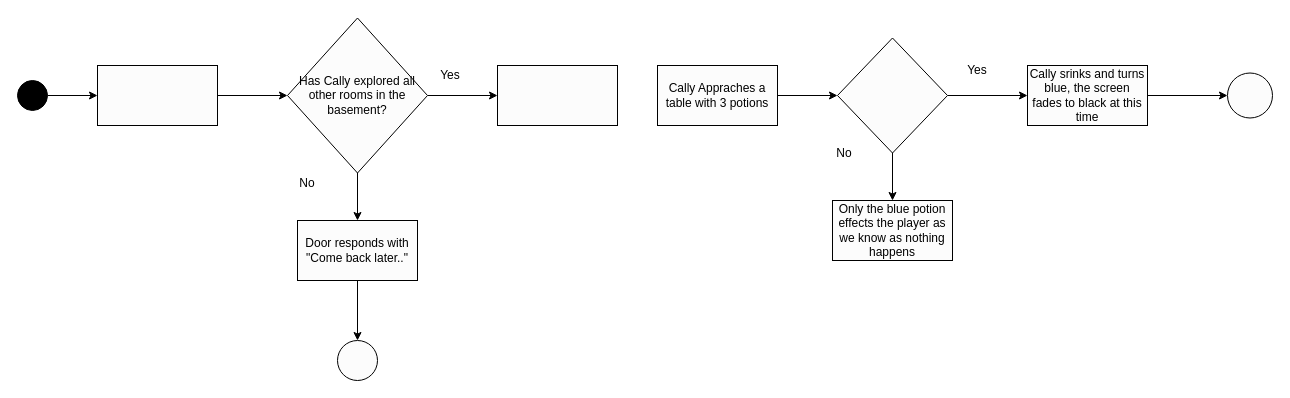
Image size: 1290x398. Some labels were removed from this diagram. The box of each missing label's shape, as (x1, y1, x2, y2) in pixels:
Cally Approach Doors: (96, 64, 218, 126)
Does cally pickup the blue potion?: (836, 37, 948, 153)
Doors open and Cally can explore the room: (496, 64, 618, 126)
